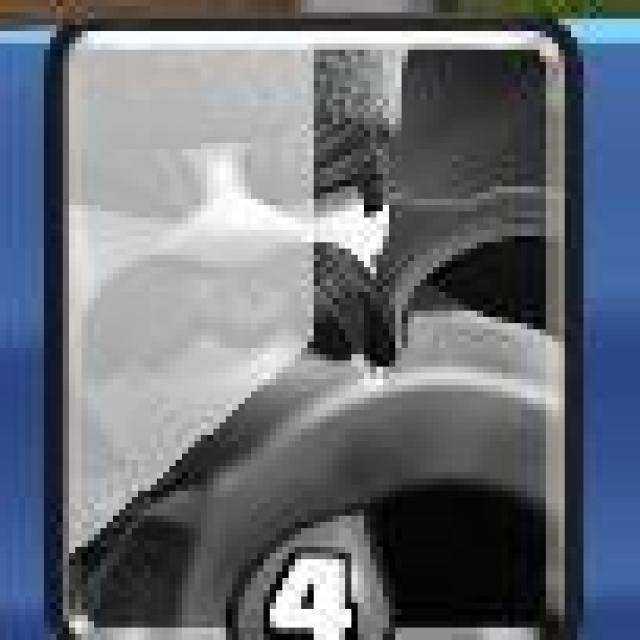Hunter: (42, 25, 592, 640)
